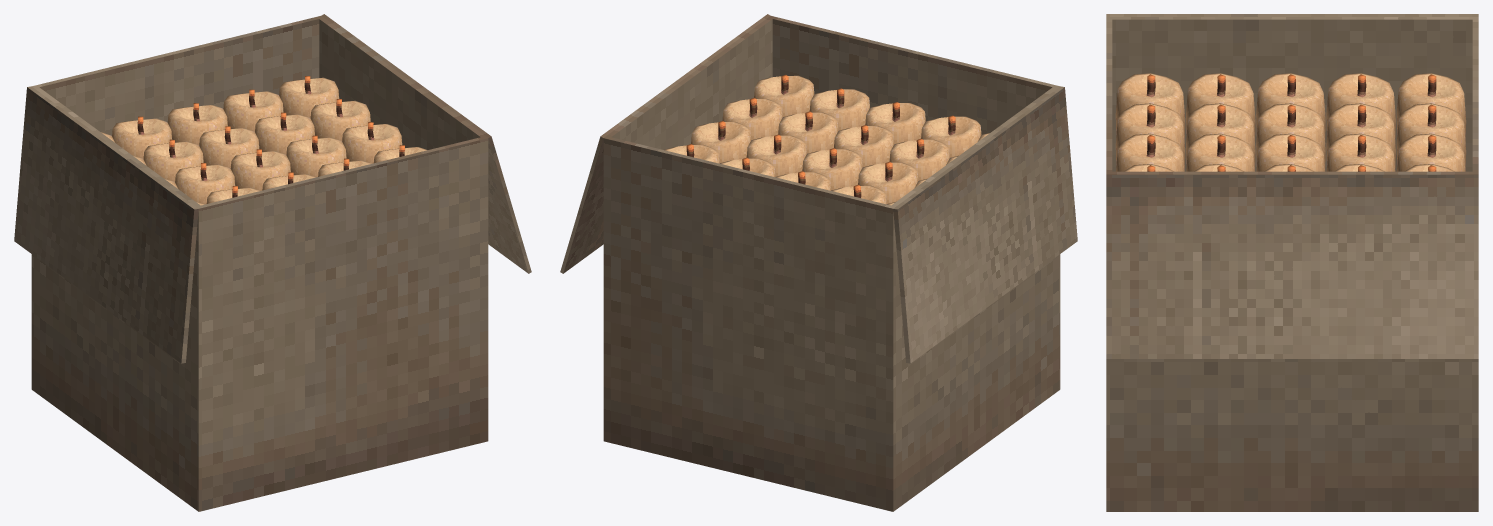
Rendered from candle_box.glb.
The picture shows the model from 3 angles, left to right: view 1: azimuth 30°, elevation 25°; view 2: azimuth 150°, elevation 25°; view 3: azimuth 270°, elevation 25°; orthographic projection. The views are drawn at different scales.
Parts seen in each view (by area): view 1: candle_box; view 2: candle_box; view 3: candle_box.
Part boxes in pixels (x1,y1,x2,y2): candle_box: (14, 14, 531, 511); candle_box: (560, 14, 1077, 511); candle_box: (1106, 14, 1478, 511).
Size of the model in its own units: 0.6746 by 0.5594 by 0.5577.
Materials: 2 (2 with a texture image).
